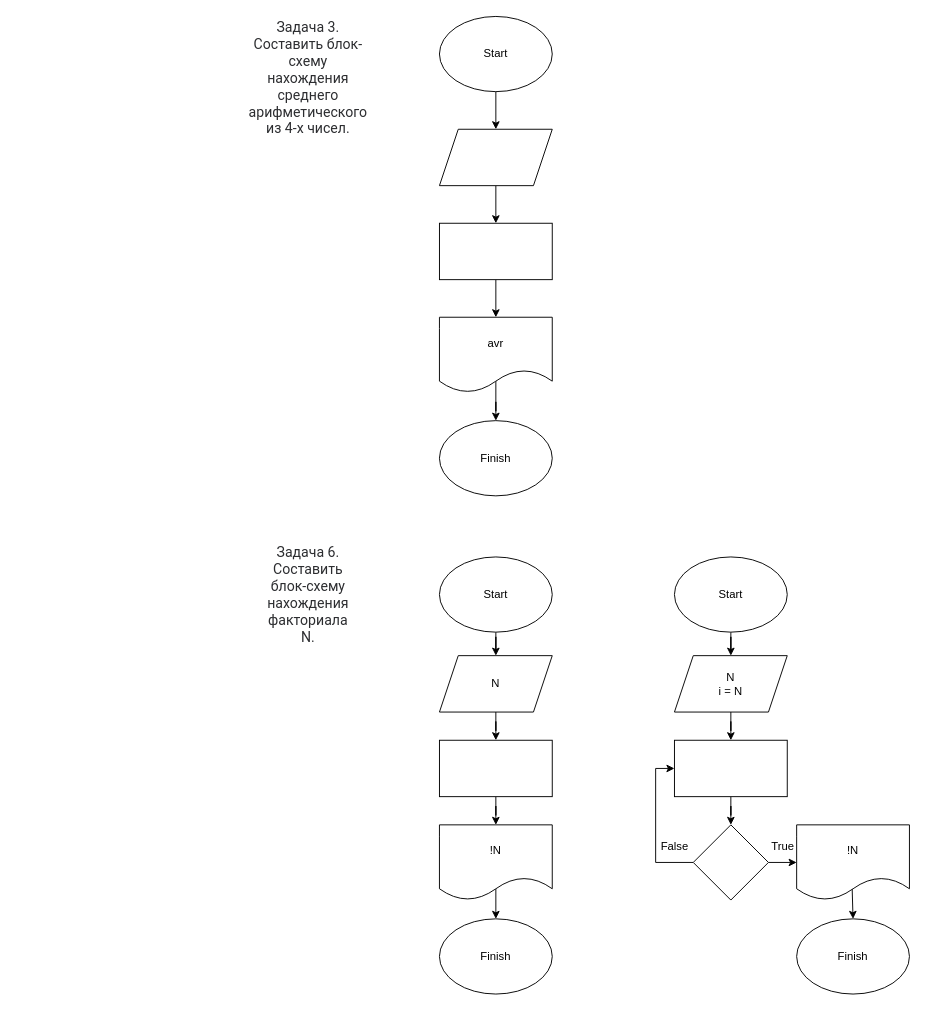
This 926x1011 diagram has some shape labels left out. The shapes that lost their labels are listed below. From the top down, each one's centre as x and y in pixels, then its label:
At point (495, 157): "a,b,c,d,avr".
At point (495, 251): "avr = (a+b+c+d)/4".
At point (495, 768): "N! = N * ... * 1".
At point (730, 768): "N = N * i i = i - 1".
At point (730, 862): "i = 1".
